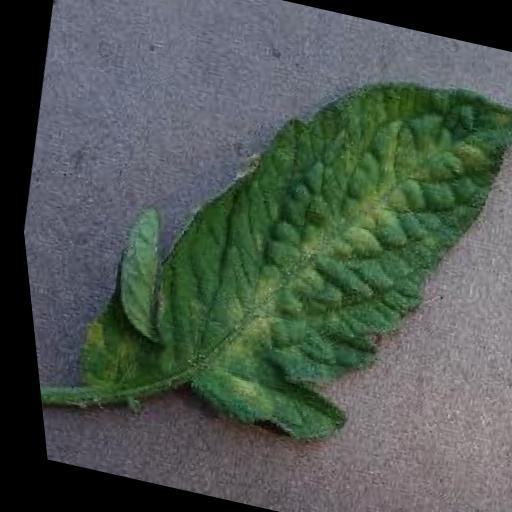Leaf Mold: (106, 25, 512, 480)
